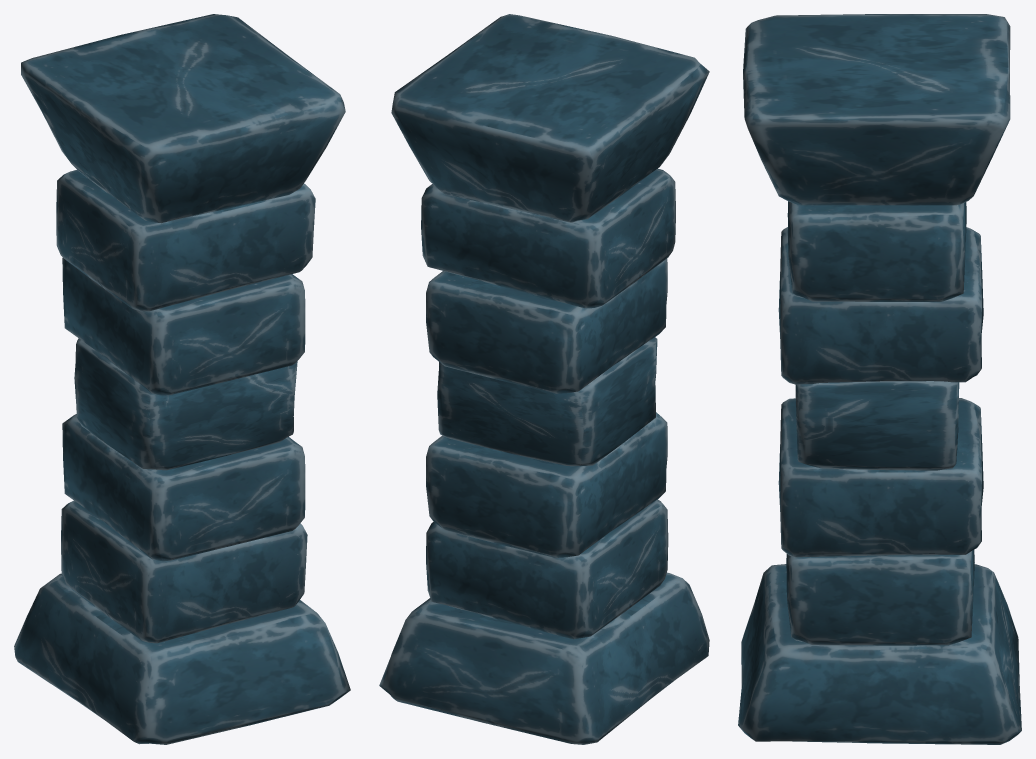
Rendered from PillarSplit.fbx.
3 views of the same model, side by side, from view 1: azimuth 30°, elevation 25°; view 2: azimuth 150°, elevation 25°; view 3: azimuth 270°, elevation 25° (orthographic). The views are drawn at different scales.
Visible parts, largest first — view 1: PillarSplit, PillarBase; view 2: PillarSplit, PillarBase; view 3: PillarSplit, PillarBase.
Boxes of the visible parts, x1,y1,x2,y2 form: PillarSplit: [21, 14, 345, 643]; PillarBase: [14, 573, 350, 744]; PillarSplit: [391, 14, 709, 639]; PillarBase: [379, 572, 709, 744]; PillarSplit: [743, 14, 1010, 645]; PillarBase: [738, 564, 1021, 744].
Size of the model in its own units: 1.72 by 4.51 by 1.85.
